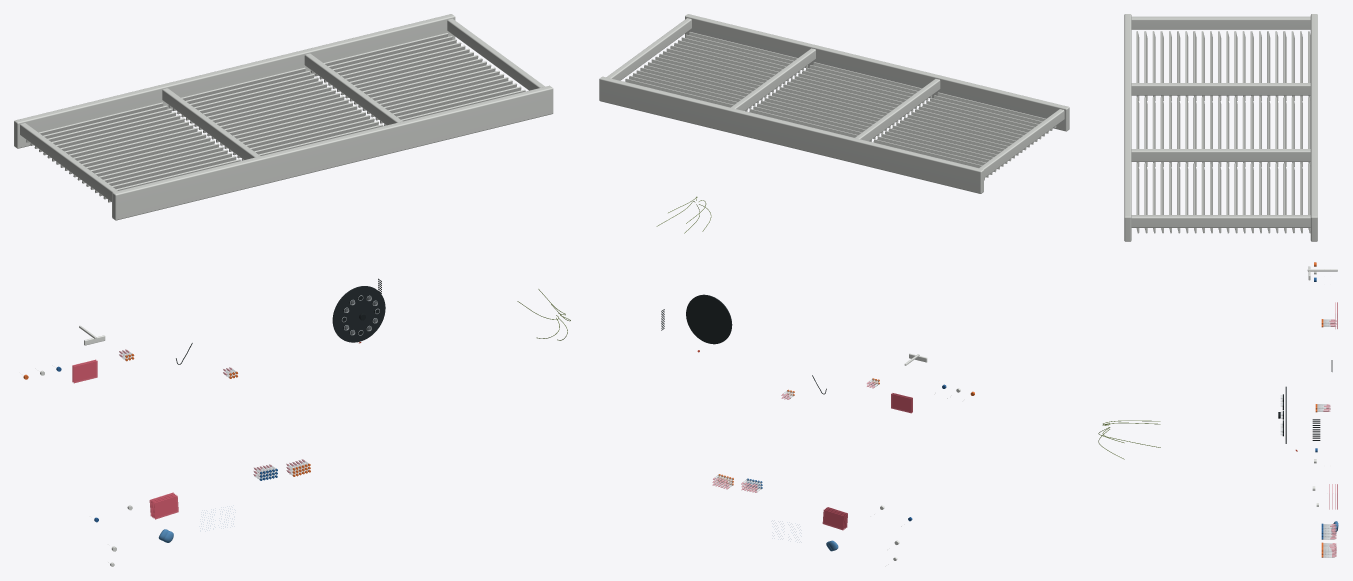
3 renders of one model, left to right at view 1: azimuth 30°, elevation 25°; view 2: azimuth 150°, elevation 25°; view 3: azimuth 270°, elevation 25°, orthographic. The views are drawn at different scales.
Parts seen in each view (by area): view 1: laboratory-2; view 2: laboratory-2; view 3: laboratory-2.
Boxes of the visible parts, x1,y1,x2,y2 form: laboratory-2: [14, 14, 570, 566]; laboratory-2: [599, 14, 1069, 566]; laboratory-2: [1098, 14, 1338, 557].
Bounding box in the file's own units: 4.15 × 4.11 × 1.99.
